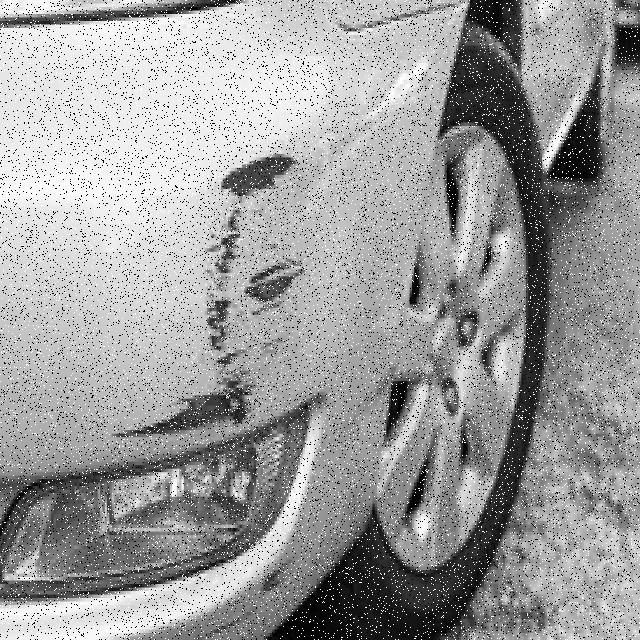front-bumper-dent: (0, 133, 435, 636)
